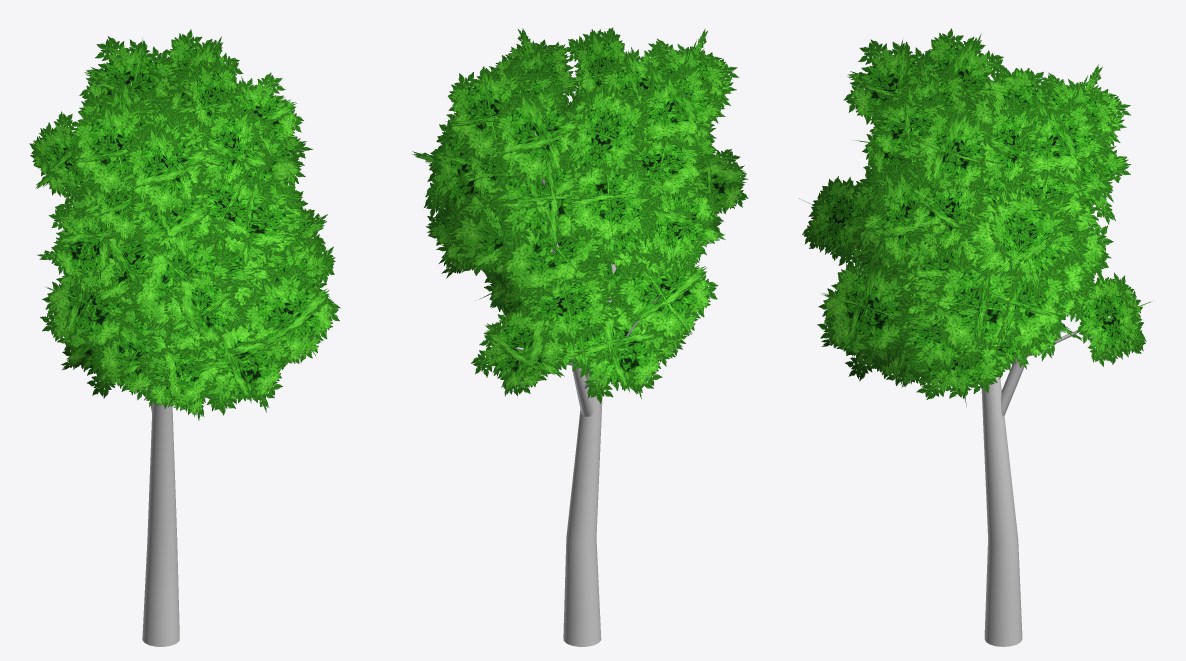
Rendered from Birch.fbx.
3 views of the same model, side by side, from view 1: azimuth 30°, elevation 25°; view 2: azimuth 150°, elevation 25°; view 3: azimuth 270°, elevation 25° (orthographic).
Parts seen in each view (by area): view 1: Plane.050, BirchTree2; view 2: Plane.050, BirchTree2; view 3: Plane.050, BirchTree2.
Boxes of the visible parts, x1,y1,x2,y2 form: Plane.050: [29, 29, 340, 420]; BirchTree2: [131, 83, 179, 646]; Plane.050: [412, 27, 748, 403]; BirchTree2: [516, 89, 664, 646]; Plane.050: [799, 28, 1152, 406]; BirchTree2: [981, 316, 1110, 646].
Bounding box in the file's own units: 572 × 1052 × 637.
